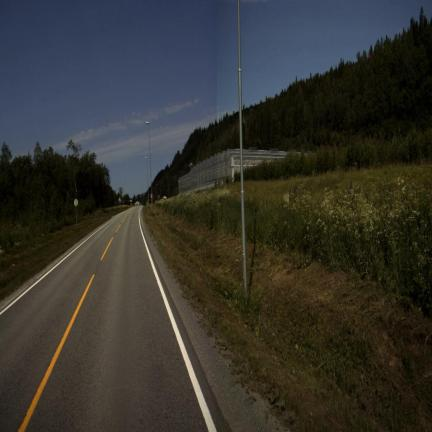Road: (0, 208, 229, 431)
